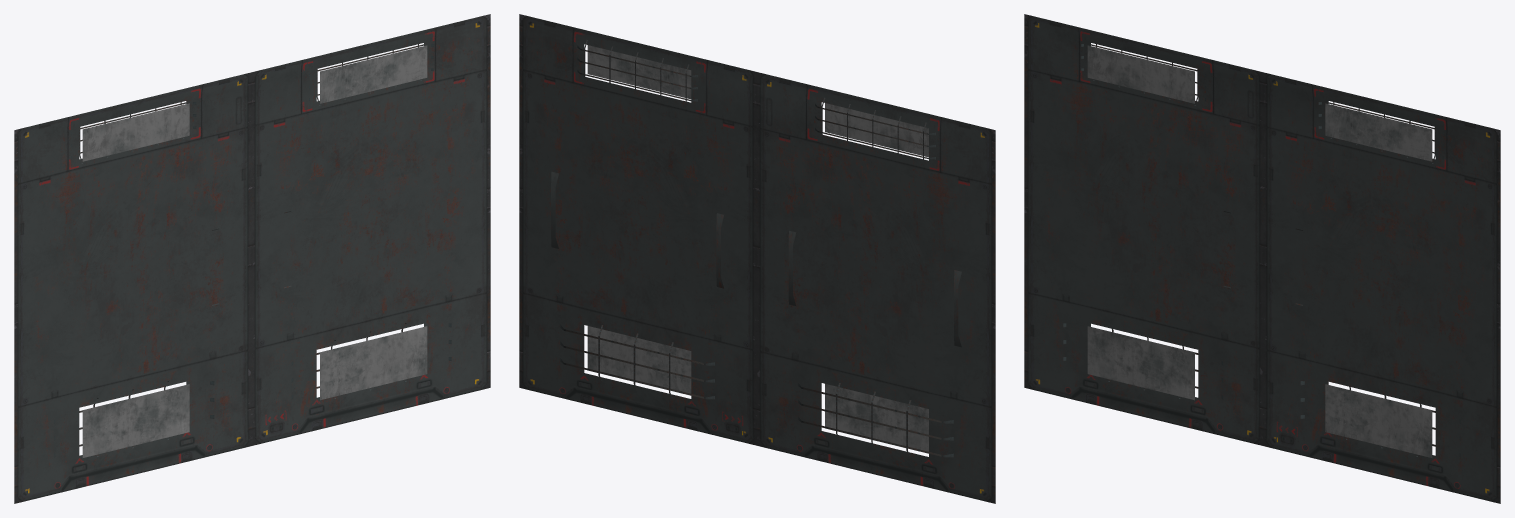
The model's file is ARC0910113.fbx.
The picture shows the model from 3 angles, left to right: view 1: azimuth 30°, elevation 25°; view 2: azimuth 150°, elevation 25°; view 3: azimuth 330°, elevation 25°; orthographic projection.
Visible parts, largest first — view 1: smARC0910113; view 2: smARC0910113; view 3: smARC0910113.
Part boxes in pixels (box(x1,y1,x2,y2)): smARC0910113: box(14, 14, 490, 503); smARC0910113: box(519, 14, 995, 503); smARC0910113: box(1024, 14, 1500, 503).
Bounding box in the file's own units: 400 × 300 × 9.83.
1 material, 1 textured.
